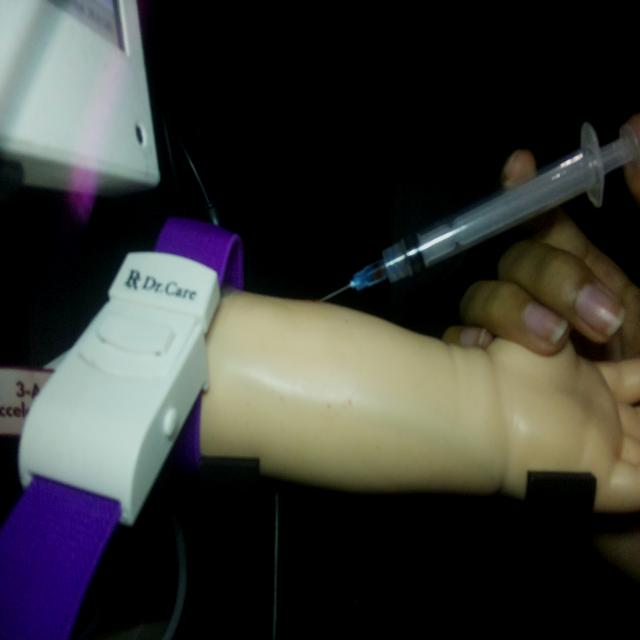17 degrees: (316, 116, 637, 305)
